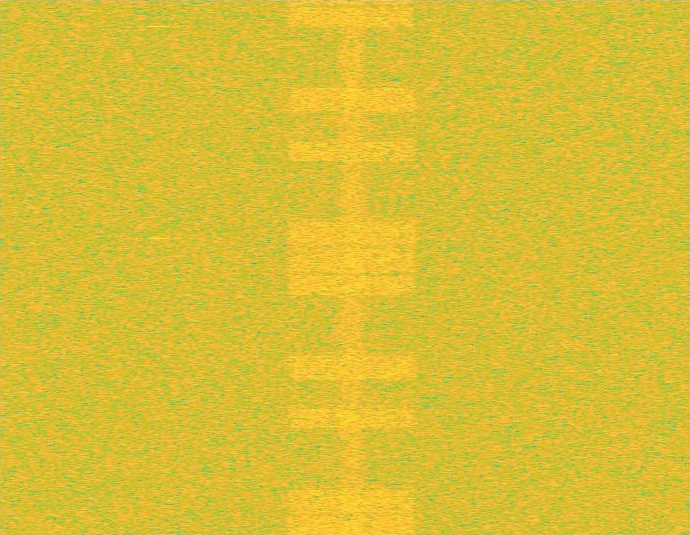DSSS: (336, 0, 367, 534)
LTE: (283, 0, 421, 534)
Radar: (151, 0, 165, 534)
